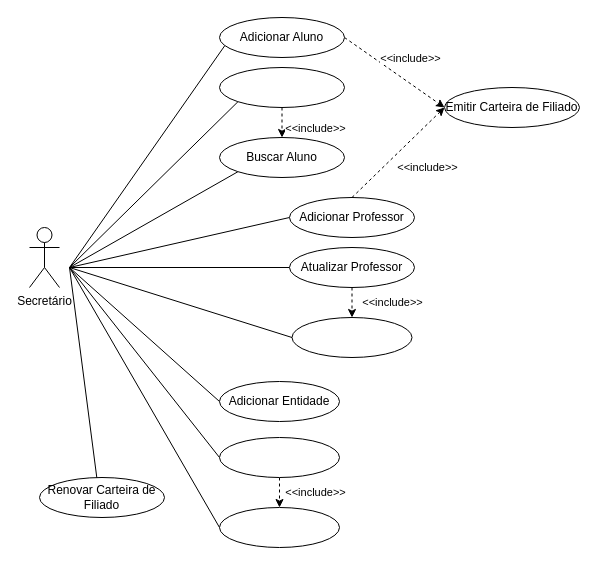
This 597x565 diagram has some shape labels left out. Each missing label, with the box of its shape:
Atualizar Aluno: (218, 66, 344, 108)
Atualizar Entidade: (218, 436, 340, 478)
Buscar Entidade: (218, 506, 340, 548)
Buscar Professor: (291, 316, 412, 358)
